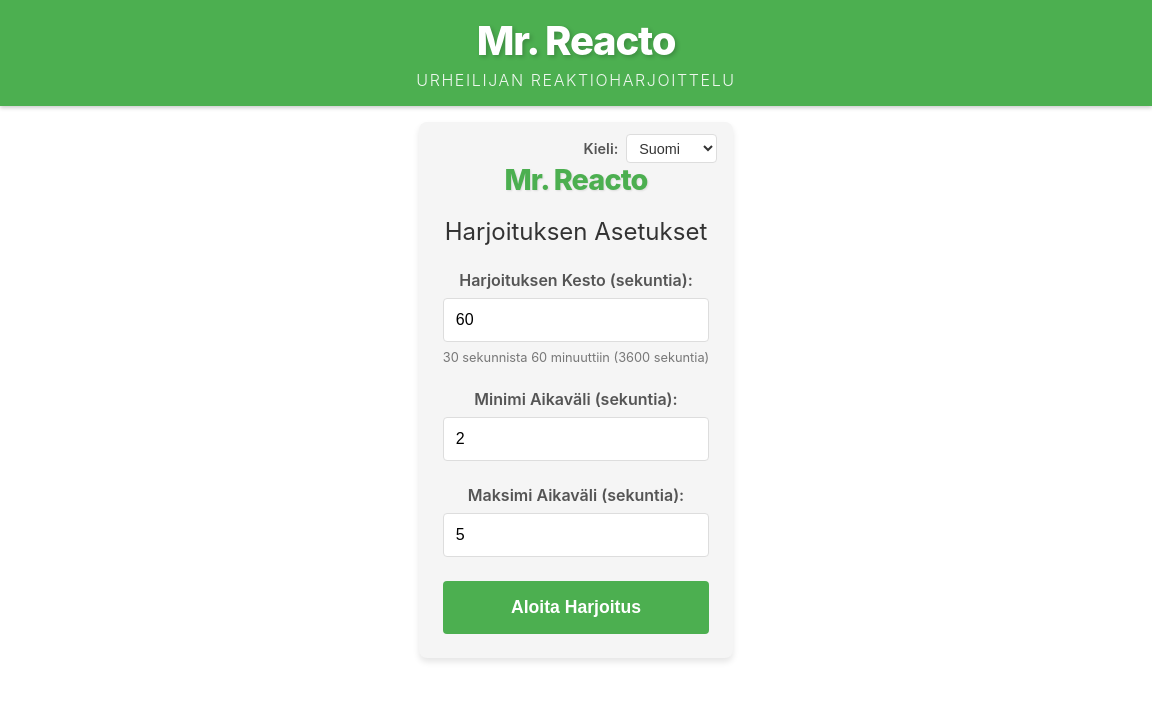
App Component › changes language when language selector is used
Expected: the heading "Harjoituksen Asetukset" is shown, [443,217,709,246]
# Change language to English
Select "Englanti" in the dropdown labelled "Kieli:". click: [672, 149]
box: [626,134,717,163]
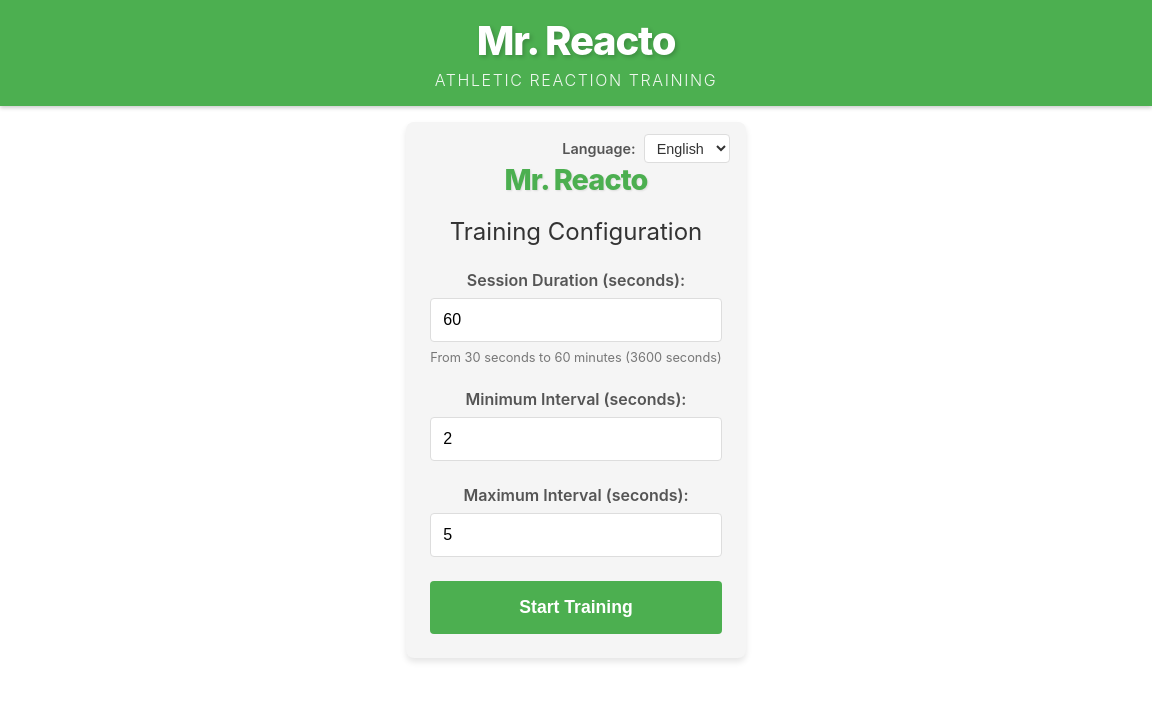
Now the heading "Training Configuration" is shown, box [430,217,722,246]
# Change back to Finnish
Select "Finnish" in the dropdown named "kieli". click: [687, 149]
box: [644,134,730,163]
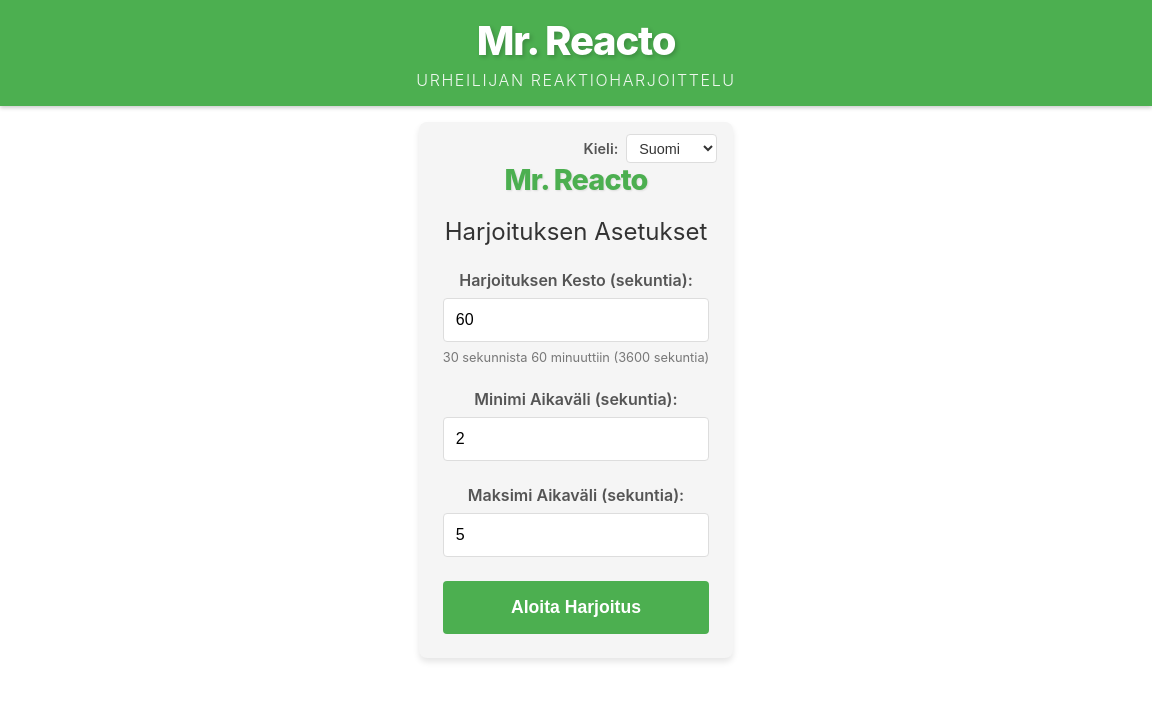
Now the heading "Harjoituksen Asetukset" is shown, box [443,217,709,246]
